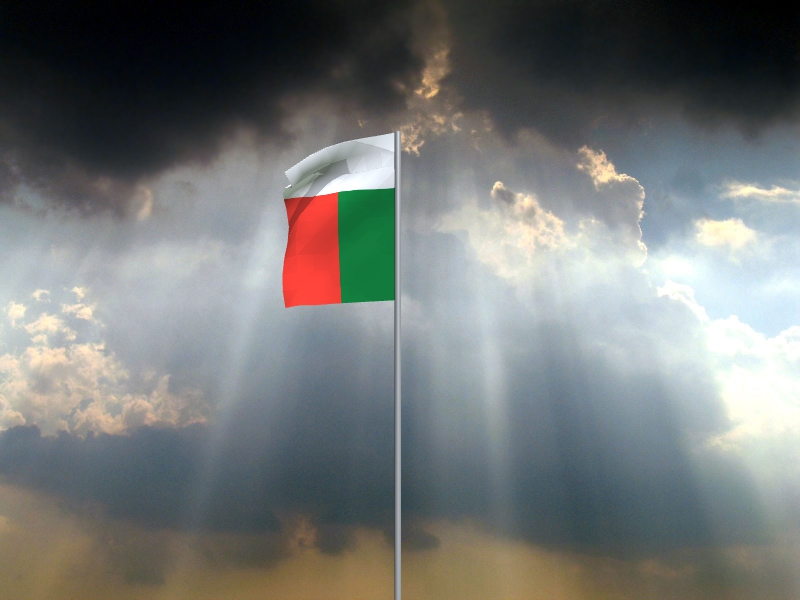mg: (282, 134, 394, 310)
